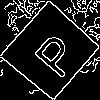P: (25, 25, 82, 81)
